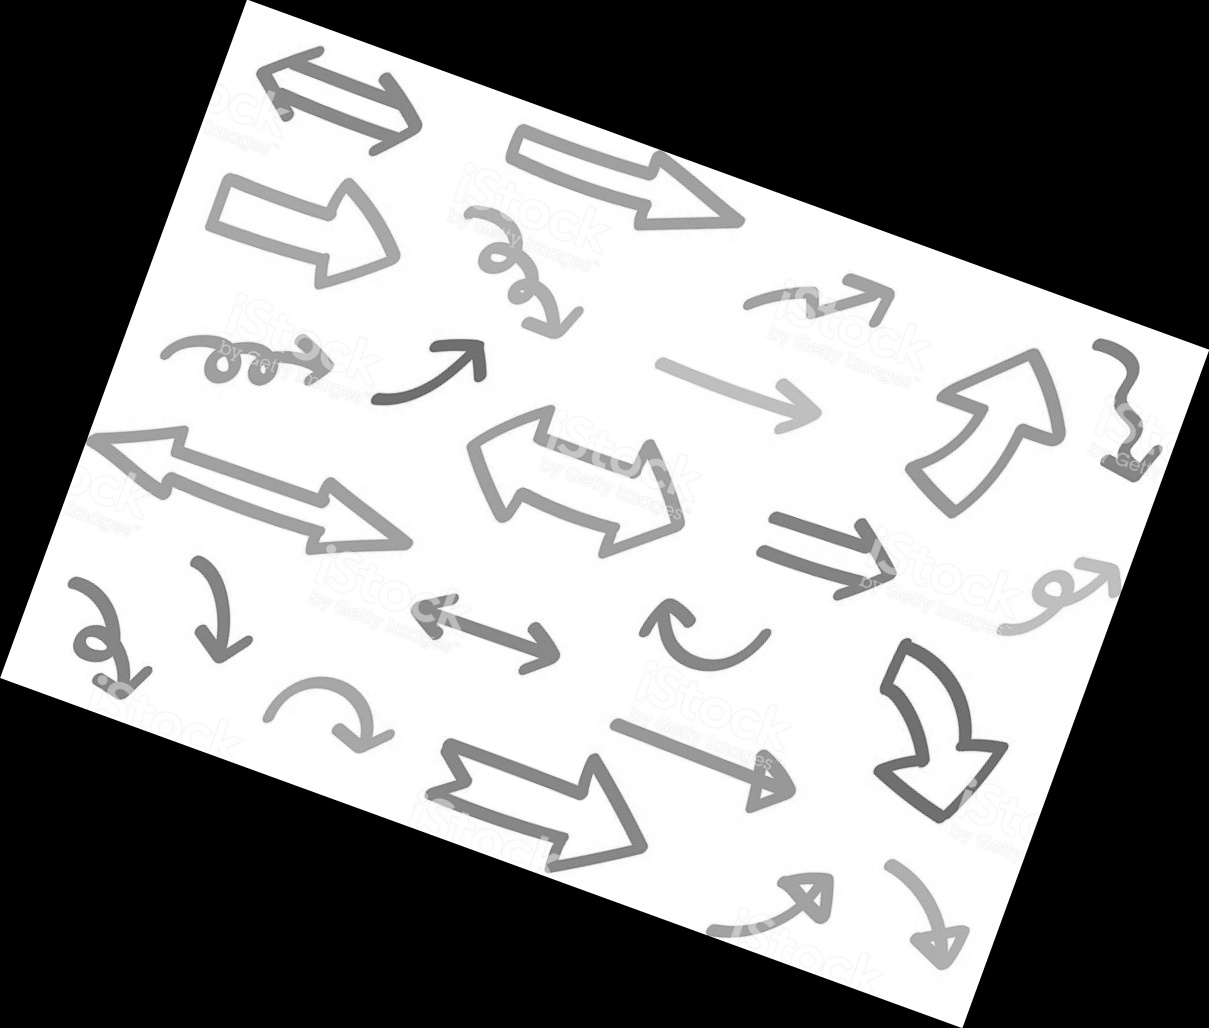arrow: (892, 335, 1076, 519), (235, 443, 425, 569), (869, 695, 1018, 828), (556, 423, 692, 563), (574, 137, 753, 243), (275, 168, 406, 294), (87, 414, 234, 521), (676, 728, 803, 822), (792, 502, 901, 610), (247, 33, 355, 141), (628, 589, 731, 678), (712, 364, 829, 438), (897, 890, 979, 981), (737, 866, 836, 937), (477, 609, 576, 677), (186, 586, 261, 670), (823, 261, 903, 335), (313, 693, 401, 758), (401, 586, 484, 651), (414, 335, 494, 396), (277, 324, 343, 391), (84, 663, 164, 707), (524, 308, 593, 346)
